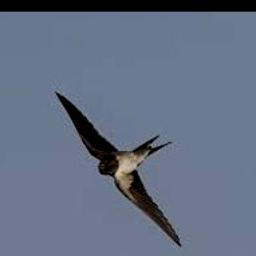Swallow: (55, 90, 184, 248)
